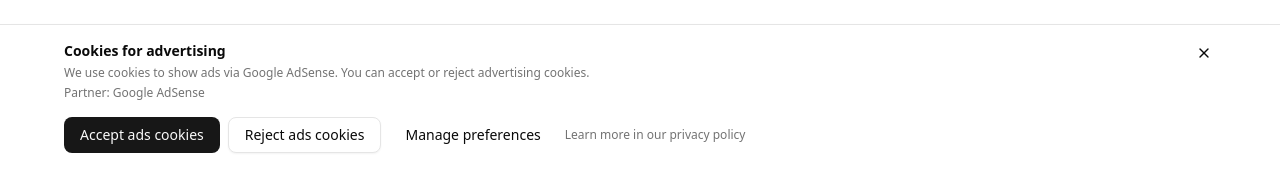
Test: ConsentBanner › opens preferences panel
Click the button "Manage preferences".
click(473, 135)  # box [389,117,557,153]
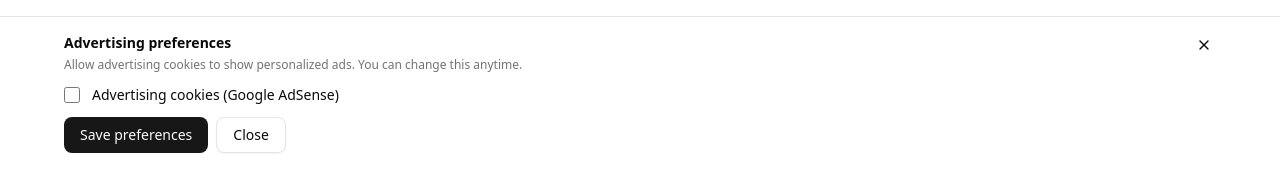
Expected: the text "Advertising preferences" is shown, [64,33,231,52]
